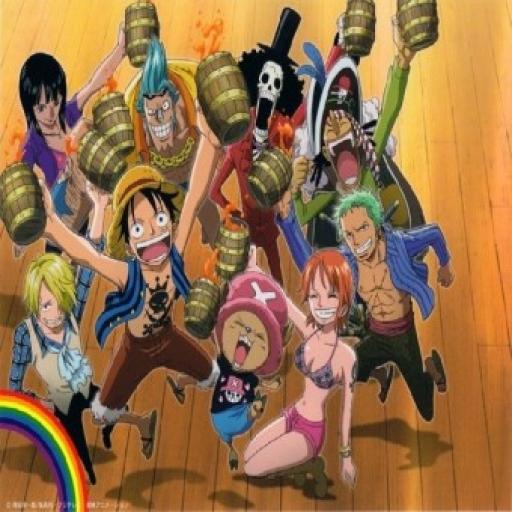Luffy: (90, 163, 206, 274)
Nami: (284, 250, 366, 331)
NicoRobin: (15, 41, 86, 142)
Usopp: (302, 99, 396, 192)
Zoro: (331, 188, 397, 259)
sanji: (12, 247, 85, 344)
